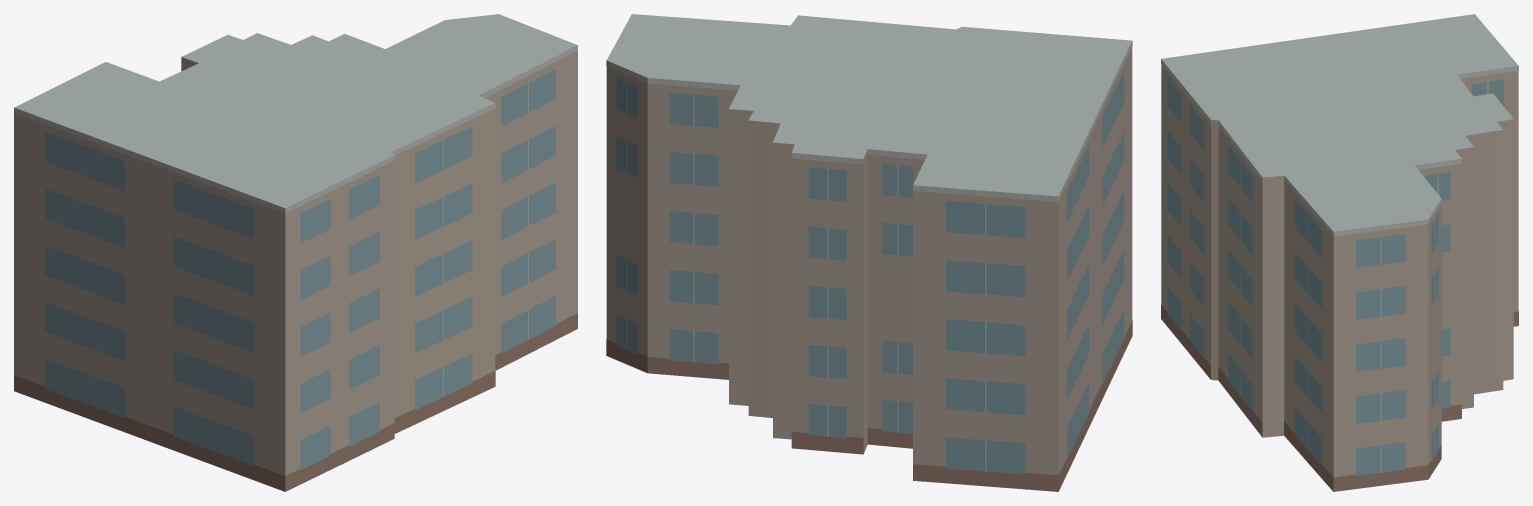
Rendered from survey-upis-32663135.glb.
The picture shows the model from 3 angles, left to right: view 1: azimuth 30°, elevation 25°; view 2: azimuth 150°, elevation 25°; view 3: azimuth 270°, elevation 25°; orthographic projection. The views are drawn at different scales.
Visible parts, largest first — view 1: survey-upis-32663135.tmp; view 2: survey-upis-32663135.tmp; view 3: survey-upis-32663135.tmp.
Part boxes in pixels (left/top/right/bottom): survey-upis-32663135.tmp: left=14, top=14, right=577, bottom=491; survey-upis-32663135.tmp: left=606, top=14, right=1132, bottom=491; survey-upis-32663135.tmp: left=1161, top=14, right=1518, bottom=491.
Bounding box in the file's own units: 23.36 × 13 × 16.21.
